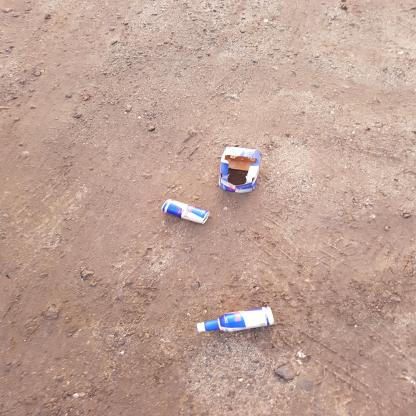Drink can: (162, 199, 210, 224)
Other carton: (219, 146, 259, 193)
Other plastic container: (197, 307, 275, 332)
Pop tab: (205, 216, 208, 219)
